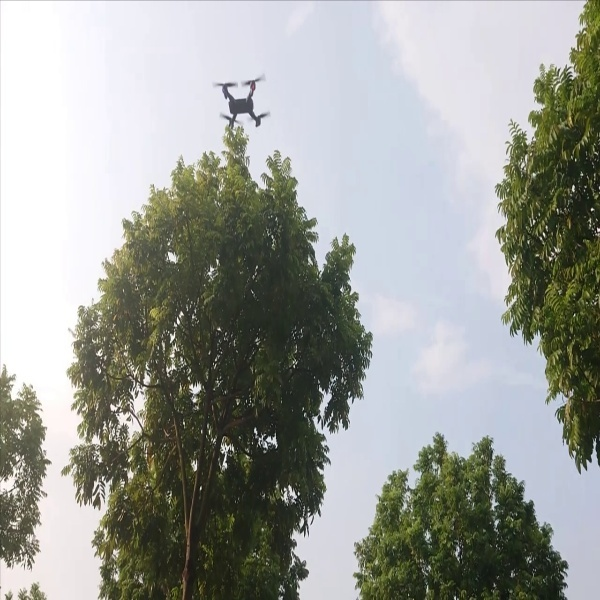drone: (202, 67, 275, 136)
